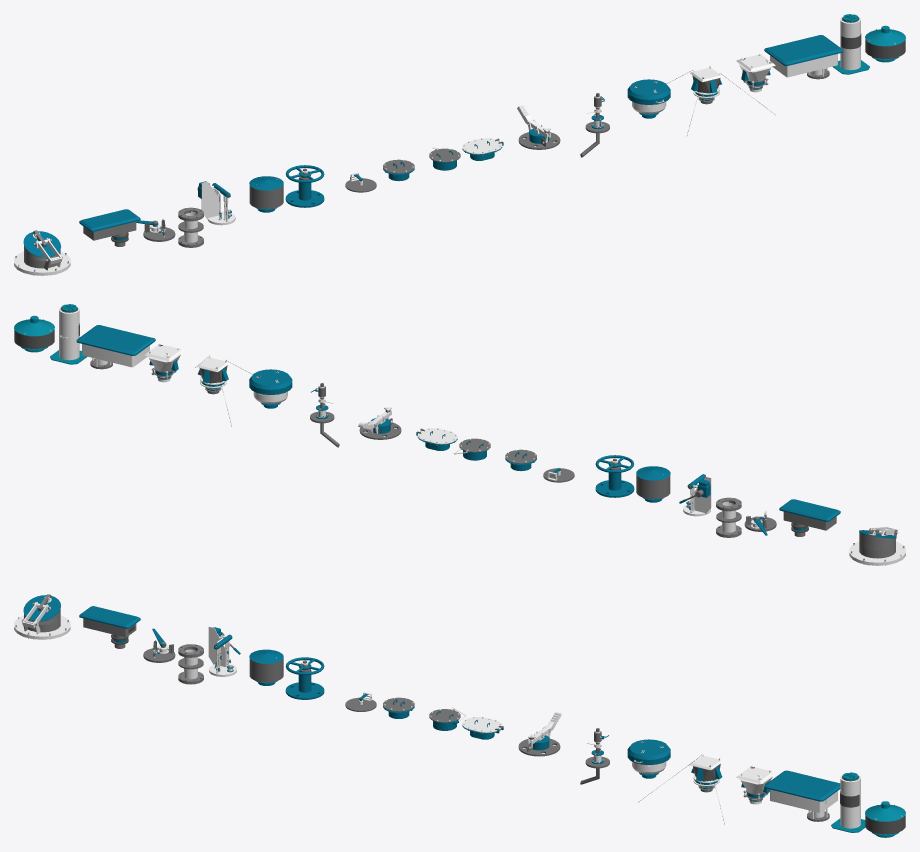
3 views of the same model, one above another, from view 1: azimuth 30°, elevation 25°; view 2: azimuth 150°, elevation 25°; view 3: azimuth 330°, elevation 25° (orthographic).
Parts seen in each view (by area): view 1: Box002 (×2), Box001 (×2), Cylinder030 (×2), Cylinder001, Cone001, Cylinder024, Cylinder068, Cone003; view 2: Box002 (×2), Cylinder030 (×2), Cylinder001, Box001, Cone001, Cylinder024, Cone003; view 3: Box002 (×2), Cylinder030 (×2), Cylinder001, Box001, Cone001, Cylinder024, Cylinder068, Cone003.
Boxes of the visible parts, x1,y1,x2,y2 form: Box002 (×2): (79,35,843,231); Box001 (×2): (201,54,837,218); Cylinder030 (×2): (249,39,905,209); Cylinder001: (840,16,860,70); Cone001: (627,79,670,99); Cylinder024: (14,251,70,275); Cylinder068: (23,231,60,257); Cone003: (865,29,905,46); Box002 (×2): (76,325,840,521); Cylinder030 (×2): (14,329,670,499); Cylinder001: (59,306,79,360); Box001: (82,344,149,367); Cone001: (249,369,292,389); Cylinder024: (849,541,905,565); Cone003: (14,319,54,336); Box002 (×2): (79,606,840,801); Cylinder030 (×2): (249,658,905,834); Cylinder001: (840,775,860,828); Box001: (770,789,837,812); Cone001: (627,739,670,759); Cylinder024: (14,615,70,639); Cylinder068: (23,595,60,621); Cone003: (865,804,905,821).
Size of the model in its own units: 27483 by 2209 by 2753.
